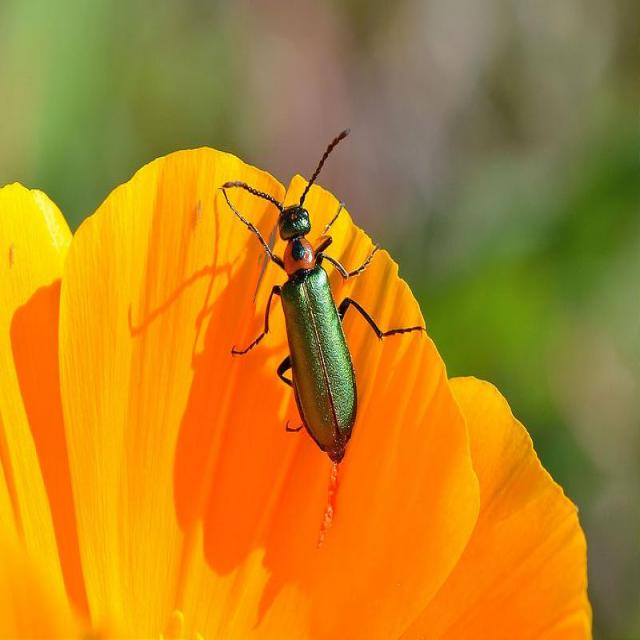BlisterBeetle-Adult-: (216, 123, 428, 460)
